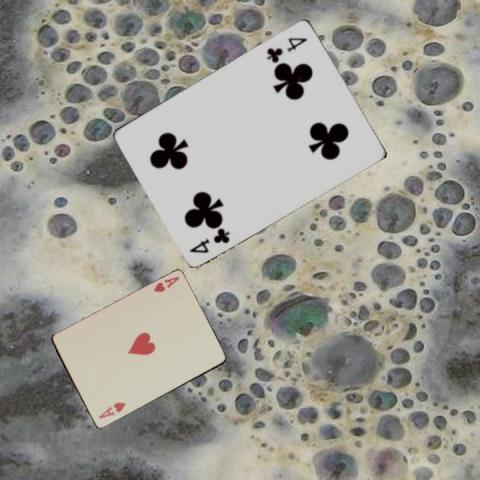4c: (263, 33, 309, 64), (187, 224, 231, 255)
Ah: (96, 399, 128, 420), (150, 274, 180, 294)
